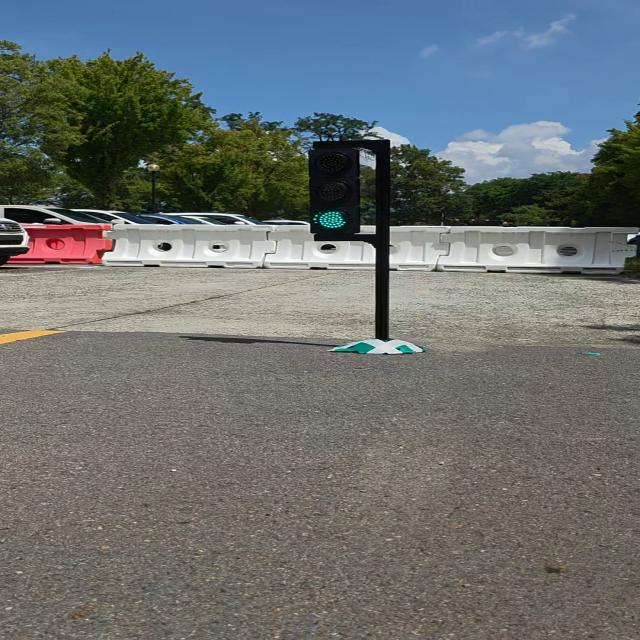green: (309, 147, 362, 239)
